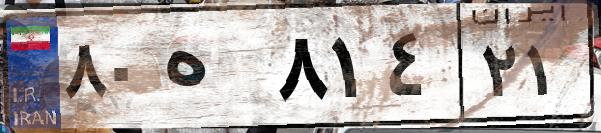0: (110, 28, 158, 98)
1: (330, 28, 385, 110), (525, 38, 570, 115)
2: (475, 38, 525, 113)
4: (385, 28, 445, 110)
8: (270, 28, 330, 110), (57, 26, 110, 100)
ه: (158, 20, 270, 120)
